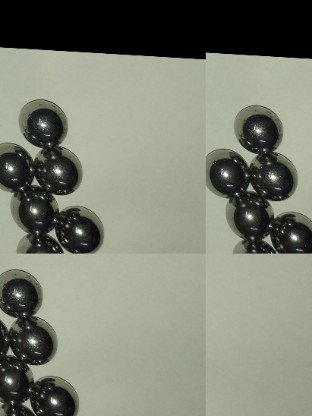ironball: (248, 140, 299, 203), (17, 96, 72, 148), (9, 184, 66, 231), (234, 100, 287, 150), (202, 145, 251, 198), (7, 311, 56, 362), (34, 145, 86, 193), (58, 202, 106, 254), (226, 192, 272, 238), (0, 141, 42, 191), (0, 263, 40, 314), (29, 376, 81, 414), (269, 206, 312, 251), (0, 359, 36, 402), (14, 234, 66, 253), (227, 238, 276, 251)
